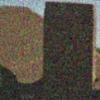chimneys: (42, 2, 98, 90)
